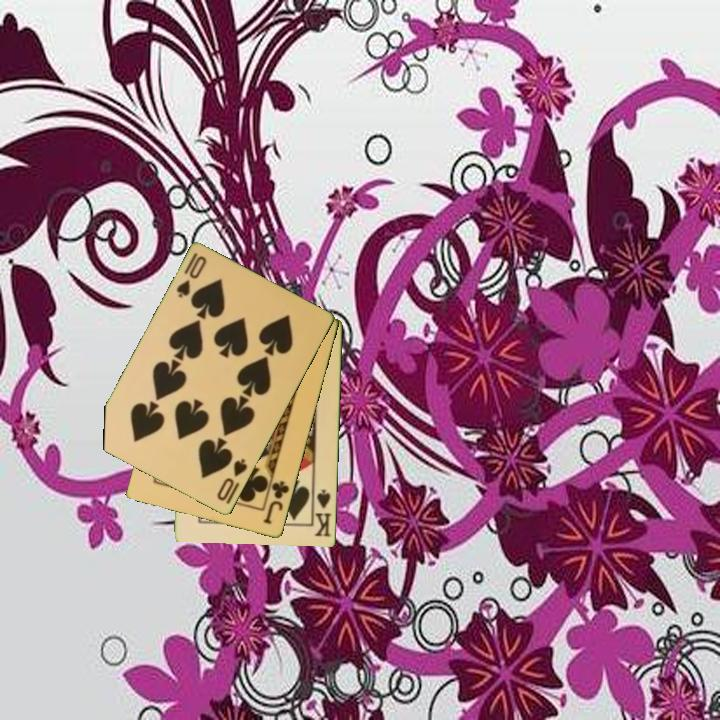10s: (173, 249, 210, 301), (213, 455, 250, 504)
Jc: (260, 478, 292, 527)
Ks: (309, 485, 335, 540)
